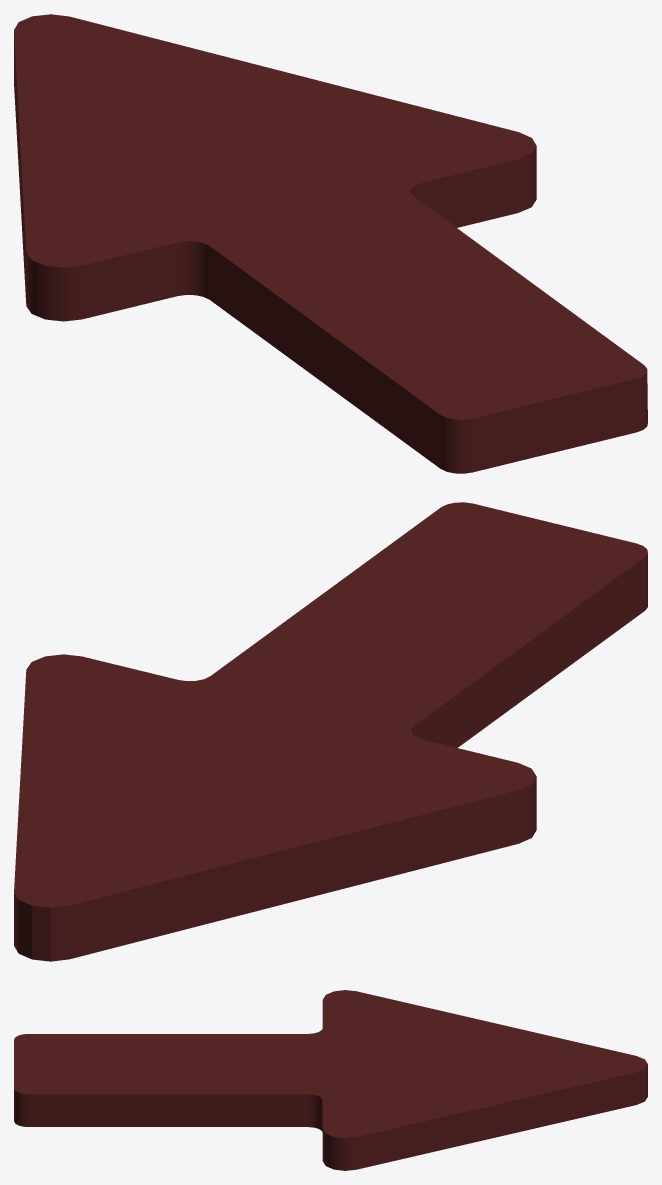
File: Arrow.glb
3 renders of one model, top to bottom at view 1: azimuth 30°, elevation 25°; view 2: azimuth 150°, elevation 25°; view 3: azimuth 270°, elevation 25°, orthographic. The views are drawn at different scales.
Parts seen in each view (by area): view 1: pCube1; view 2: pCube1; view 3: pCube1.
Boxes of the visible parts, x1,y1,x2,y2 form: pCube1: (14, 14, 647, 473); pCube1: (14, 502, 647, 961); pCube1: (14, 990, 647, 1170).
Bounding box in the file's own units: 0.0975 × 0.01 × 0.1763.
